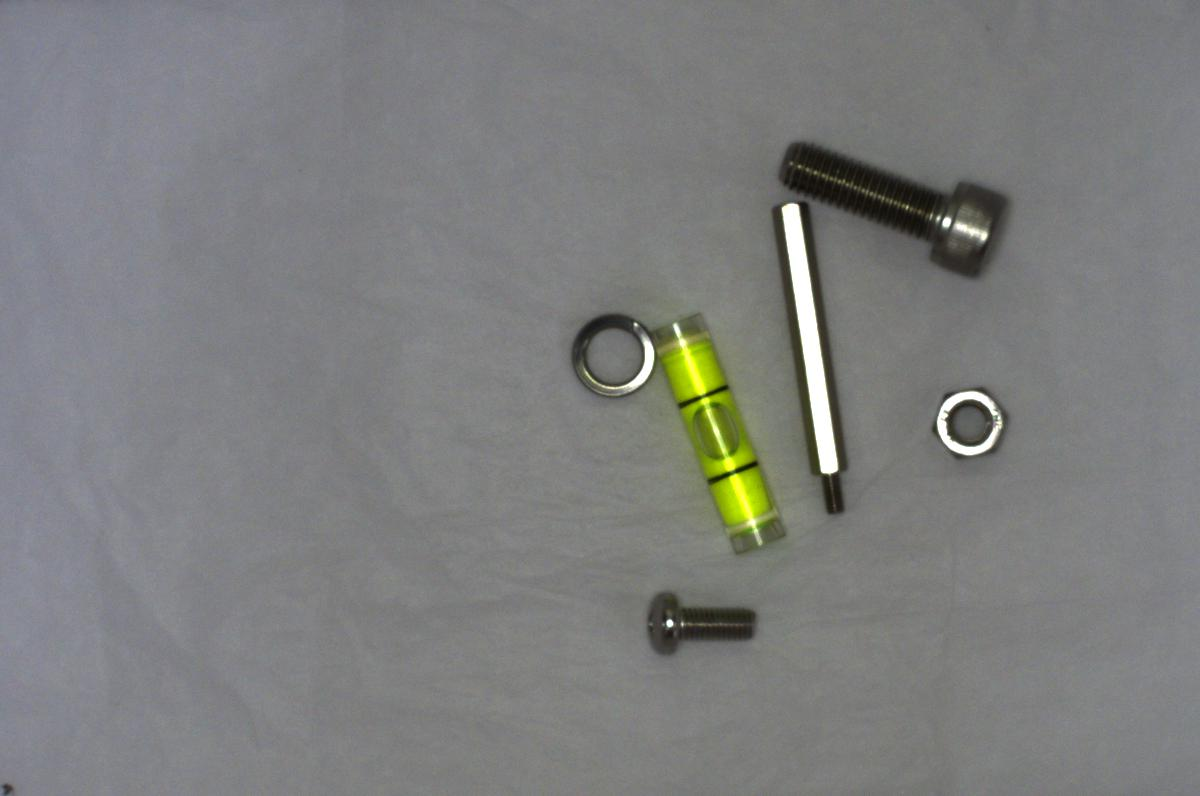Hexagon nut: (924, 374, 1025, 469)
Hexagon screw: (770, 136, 1014, 277)
Hexagonal steel column: (766, 198, 857, 519)
Horizontal bubble: (651, 300, 792, 563)
Round head screw: (642, 585, 762, 665)
Spring washer: (558, 306, 658, 404)
